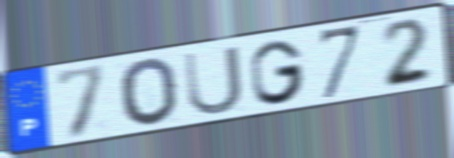2: (378, 16, 436, 90)
7: (54, 62, 109, 142), (318, 23, 366, 102)
G: (247, 37, 308, 107)
O: (117, 55, 182, 130)
U: (180, 43, 246, 119)
